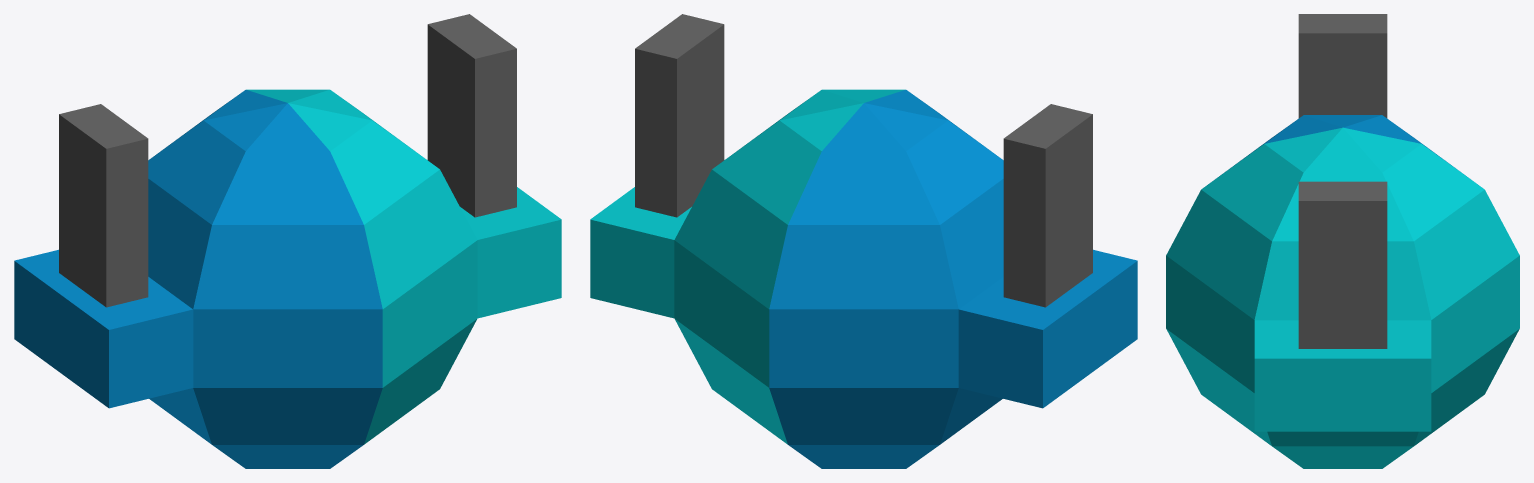
File: Splitter.fbx
The picture shows the model from 3 angles, left to right: view 1: azimuth 30°, elevation 25°; view 2: azimuth 150°, elevation 25°; view 3: azimuth 270°, elevation 25°; orthographic projection. The views are drawn at different scales.
Visible parts, largest first — view 1: Sphere; view 2: Sphere; view 3: Sphere.
Boxes of the visible parts, x1,y1,x2,y2 form: Sphere: (14, 14, 561, 468); Sphere: (590, 14, 1137, 468); Sphere: (1166, 14, 1519, 468).
Size of the model in its own units: 269 by 212 by 195.
